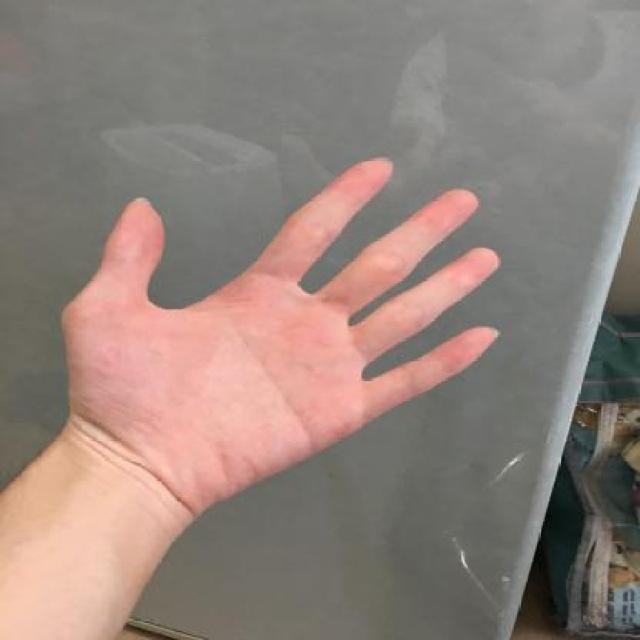bare_hand: (54, 140, 514, 511)
